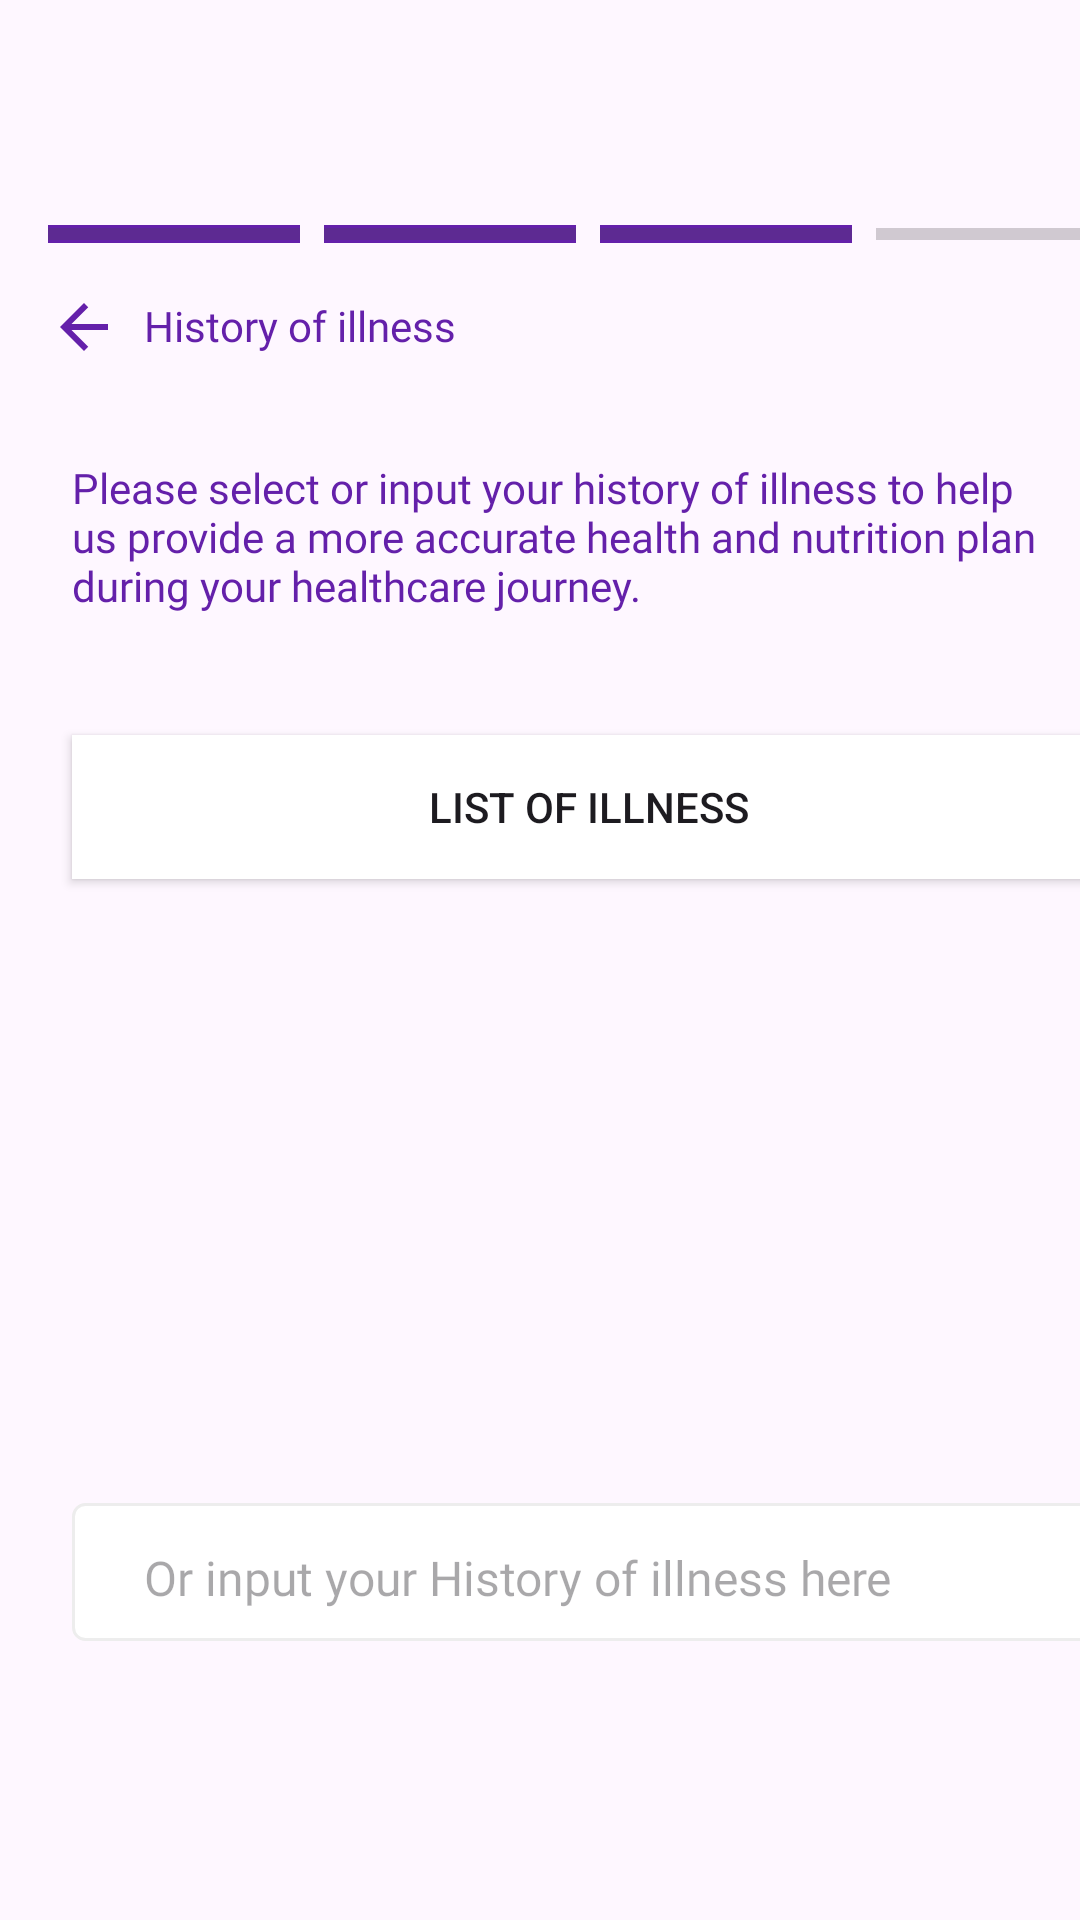

Screen size 1080 x 1920. Icon name, then its box in pixels as BBox(x1, y1, x2, y2):
arrowback: BBox(60, 303, 108, 351)
